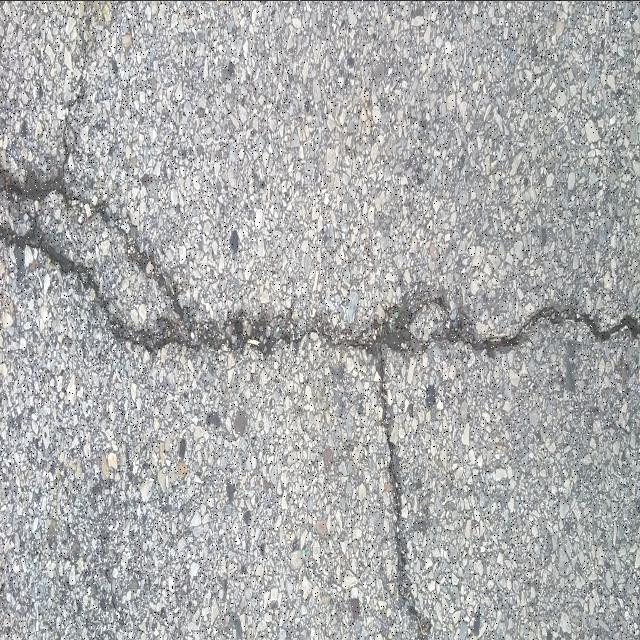Crack: (0, 217, 640, 640), (0, 73, 185, 316)
